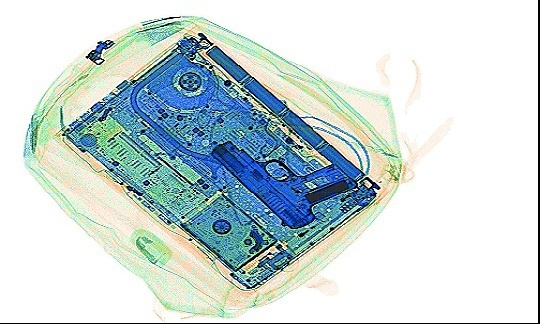lighter: (273, 209, 329, 250), (267, 164, 313, 202)
